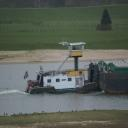tugboat: (25, 41, 101, 98)
